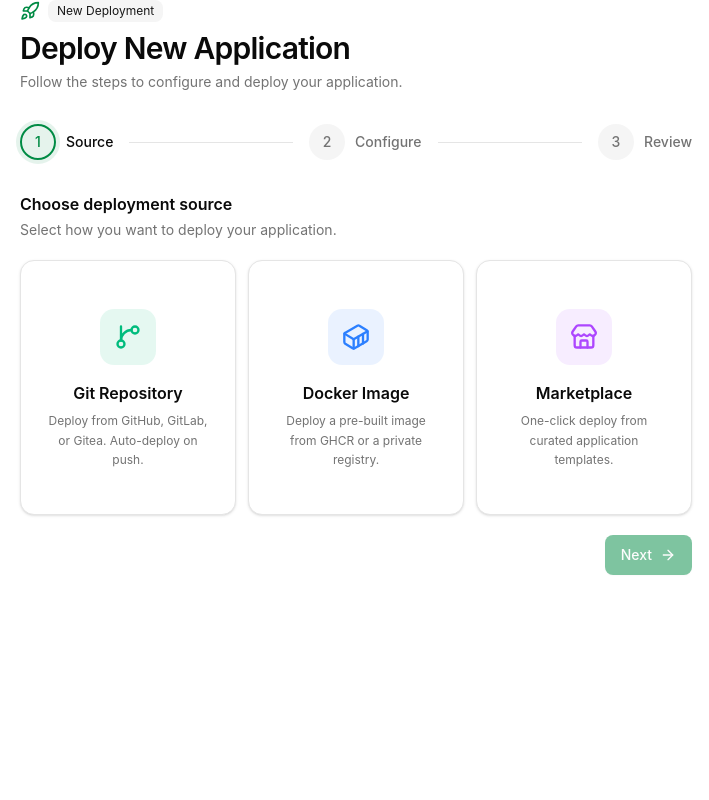
it: DeployWizard page › allows stepping back from step 2 to step 1 preserving the selected source
Click the text "Git Repository" at [128, 393], box [73,383,183,403]
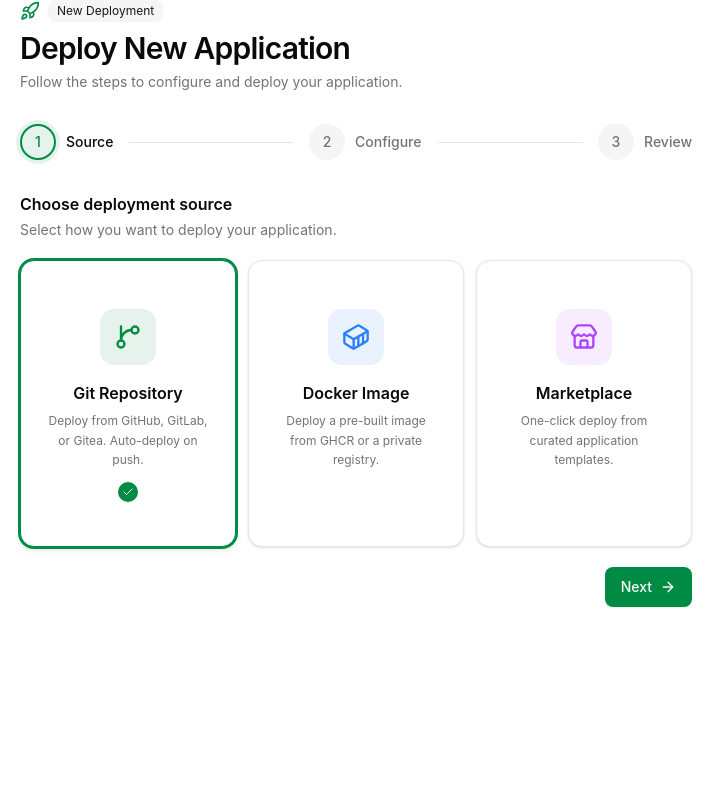
Click the button "Next" at [648, 586], box [605,566,692,606]
(page scrolled)
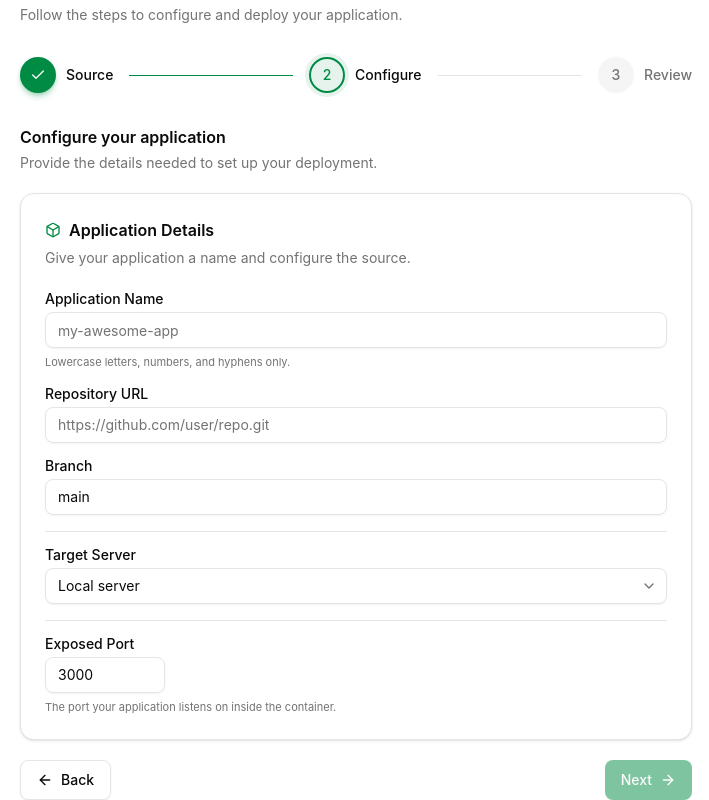
Click the button "Back" at [66, 780], box [20,760,111,799]
(page scrolled)
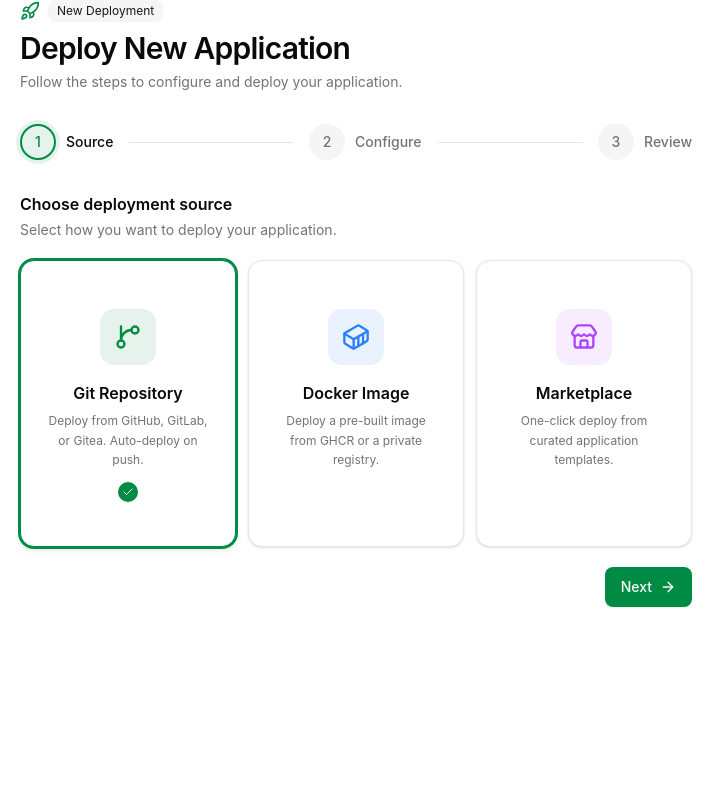
Expected: the heading "Choose deployment source" is shown, [20,194,232,214]
Expected: the button "Next" is enabled, [605,566,692,606]
